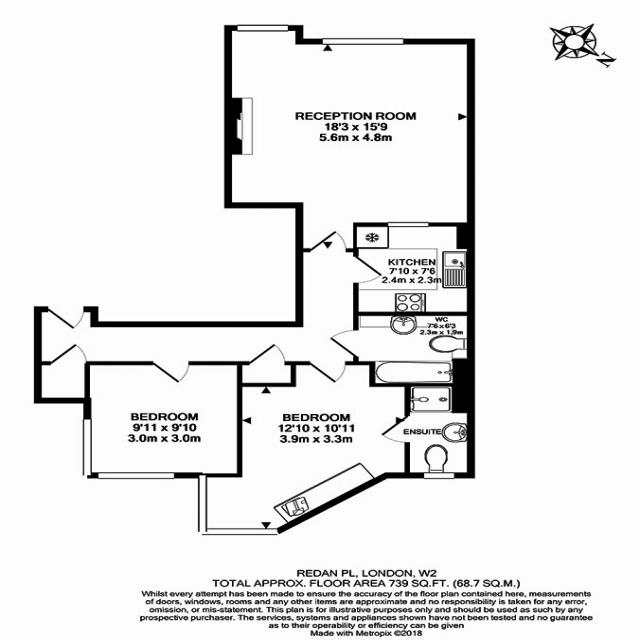DOOR: (379, 415, 410, 444), (328, 329, 359, 358), (309, 361, 347, 384), (152, 361, 190, 384), (353, 256, 383, 284), (309, 230, 347, 252)
ROOM: (224, 25, 476, 252), (197, 361, 411, 536), (83, 361, 243, 479), (353, 222, 475, 316)
WINDOW: (197, 474, 279, 535), (82, 419, 93, 479), (322, 38, 404, 45), (98, 472, 175, 479), (237, 24, 288, 32), (422, 472, 455, 480), (387, 222, 429, 227)
